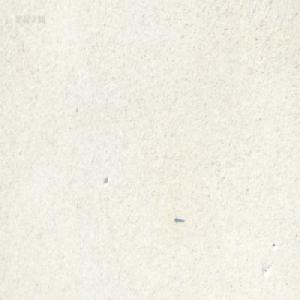Nail: (174, 215, 184, 223)
